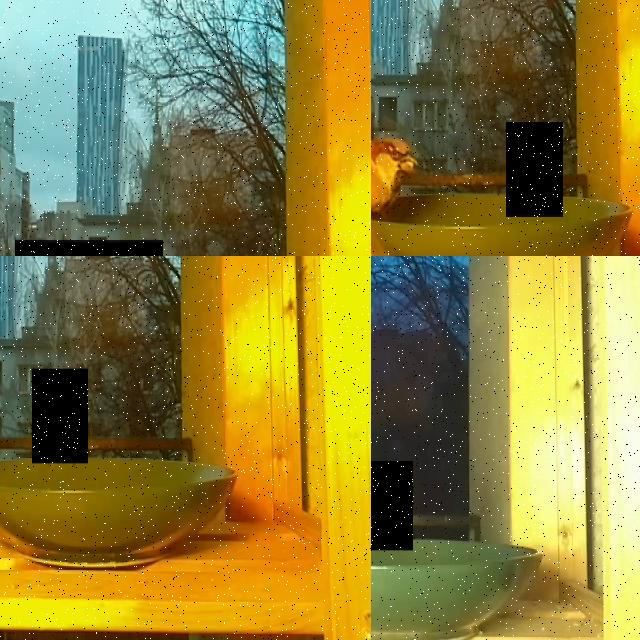Bogatka: (506, 122, 563, 217), (32, 369, 88, 463), (371, 460, 413, 550)
Wrobel: (371, 129, 421, 223)
